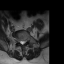CCS_stenosis: (21, 38, 23, 46)
LFS_normal: (24, 38, 26, 44)
LLS_normal: (23, 39, 24, 45)
RFS_normal: (17, 38, 19, 44)
RLS_normal: (19, 39, 21, 45)
